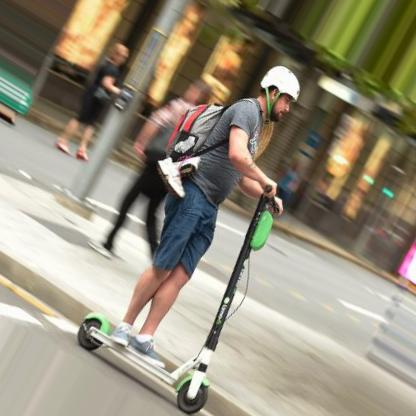scooter: (77, 184, 281, 416)
with helmet: (260, 67, 300, 122)
